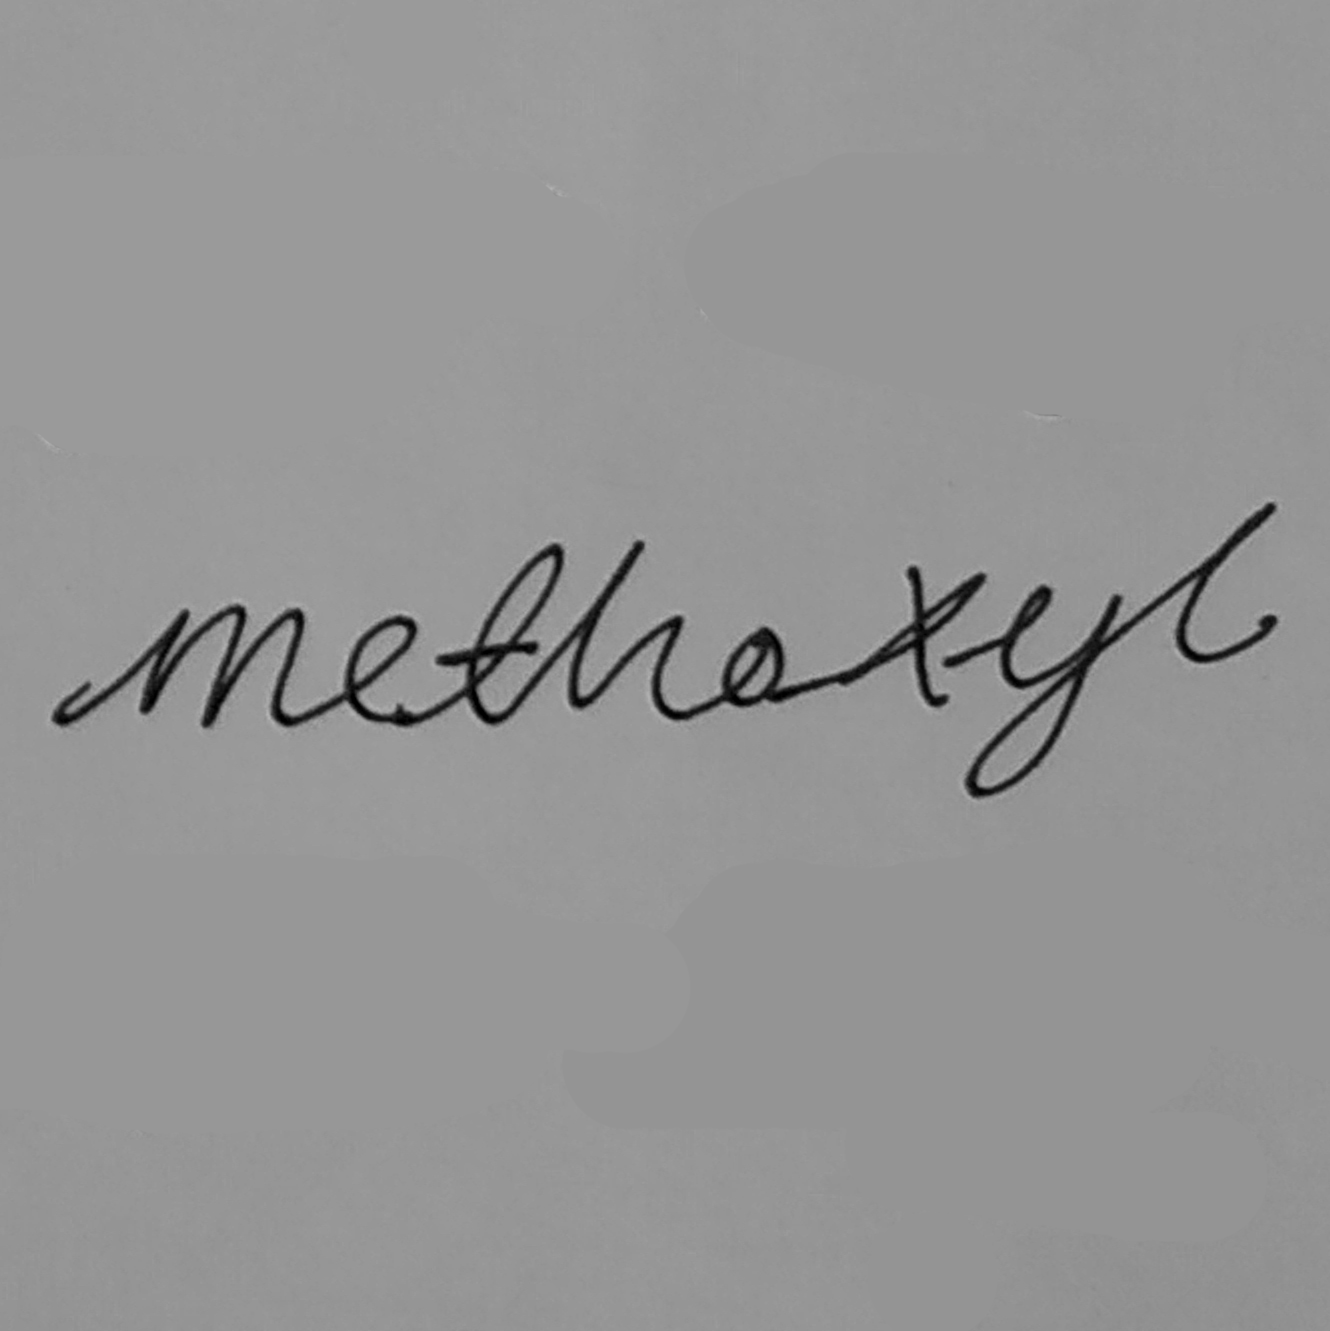e: (339, 613, 424, 729)
h: (568, 535, 691, 725)
l: (1169, 500, 1289, 667)
m: (135, 600, 308, 733)
o: (717, 623, 788, 714)
t: (427, 539, 566, 728)
x: (832, 561, 988, 711)
y: (959, 578, 1127, 802)
